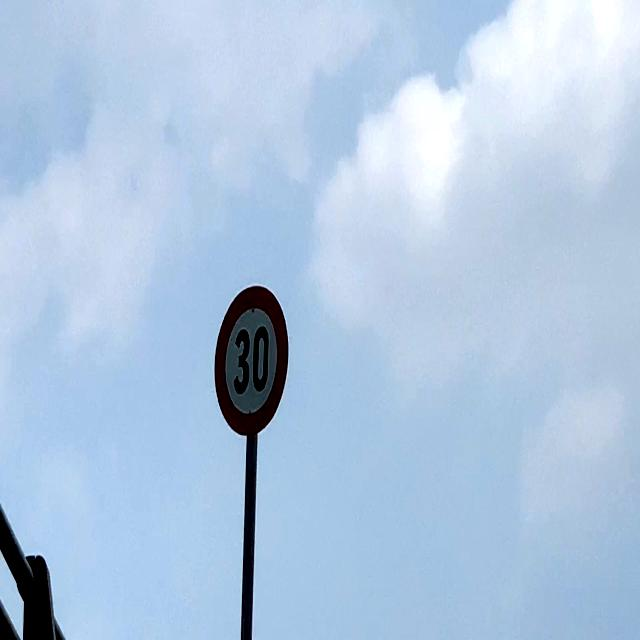P.127: (214, 282, 288, 441)
